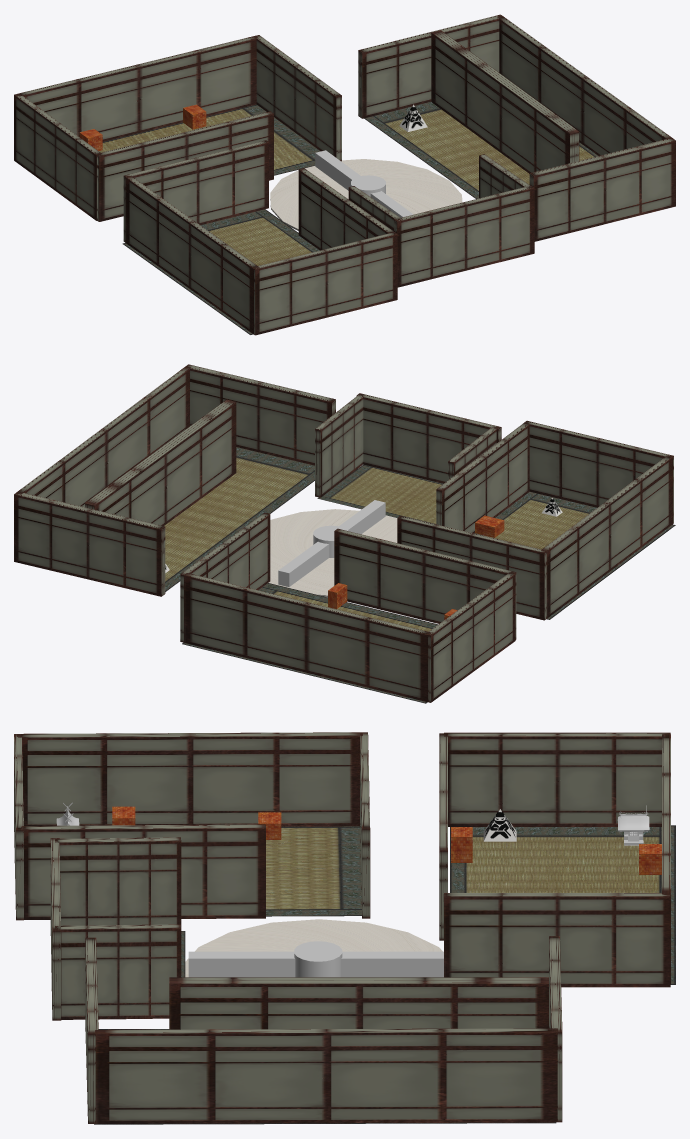
The model's file is Stage2.fbx.
3 views of the same model, one above another, from view 1: azimuth 30°, elevation 25°; view 2: azimuth 150°, elevation 25°; view 3: azimuth 270°, elevation 25° (orthographic). The views are drawn at different scales.
Parts seen in each view (by area): view 1: Box036, Box045, Box043, Box041, Box057, Box039, Box042, Box040, Box044, Box046, Box037, Box038 (+10 smaller); view 2: Box036, Box044, Box046, Box039, Box045, Box042, Plane012, Box043, Box041, Box057, Box038, Box047 (+11 smaller); view 3: Box042, Box039, Box037, Box045, Box038, Plane010, Box047, Box056, Box055, Plane011, Cylinder002, Box058 (+14 smaller).
Boxes of the visible parts, box(x1,y1,x2,y2) form: Box036: box(17, 36, 257, 141); Box045: box(431, 30, 579, 173); Box043: box(529, 138, 675, 241); Box041: box(253, 232, 397, 335); Box057: box(394, 185, 534, 287); Box039: box(125, 176, 258, 334); Box042: box(497, 15, 672, 155); Box040: box(123, 140, 268, 242); Box044: box(358, 14, 501, 118); Box046: box(97, 111, 273, 221); Box037: box(255, 35, 341, 161); Box038: box(14, 93, 101, 220); Box036: box(184, 573, 431, 702); Box044: box(14, 493, 165, 596); Box046: box(334, 528, 516, 639); Box039: box(541, 455, 672, 618); Box045: box(85, 399, 236, 525); Box042: box(16, 366, 190, 507); Plane012: box(164, 447, 314, 591); Box043: box(186, 364, 335, 465); Box041: box(524, 420, 673, 523); Box057: box(356, 393, 501, 483); Box038: box(428, 572, 515, 702); Box047: box(436, 423, 529, 533); Box042: box(95, 1028, 557, 1123); Box039: box(17, 732, 362, 826); Box037: box(444, 893, 670, 987); Box045: box(169, 977, 548, 1029); Box038: box(444, 732, 670, 826); Plane010: box(450, 825, 675, 984); Box047: box(21, 824, 265, 919); Box056: box(55, 837, 181, 926); Box055: box(55, 924, 181, 1019); Plane011: box(266, 826, 361, 916); Cylinder002: box(185, 919, 442, 977); Box058: box(188, 951, 295, 977).
Size of the model in its own units: 1890 by 289 by 1738.
